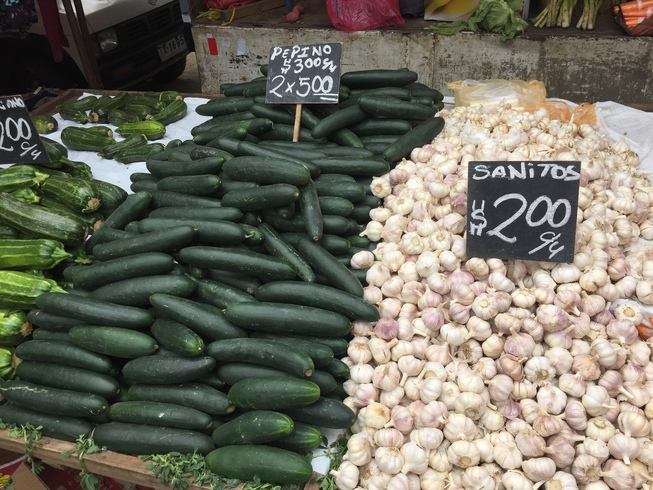precio: (460, 153, 585, 268), (265, 39, 359, 126), (1, 88, 51, 166)
